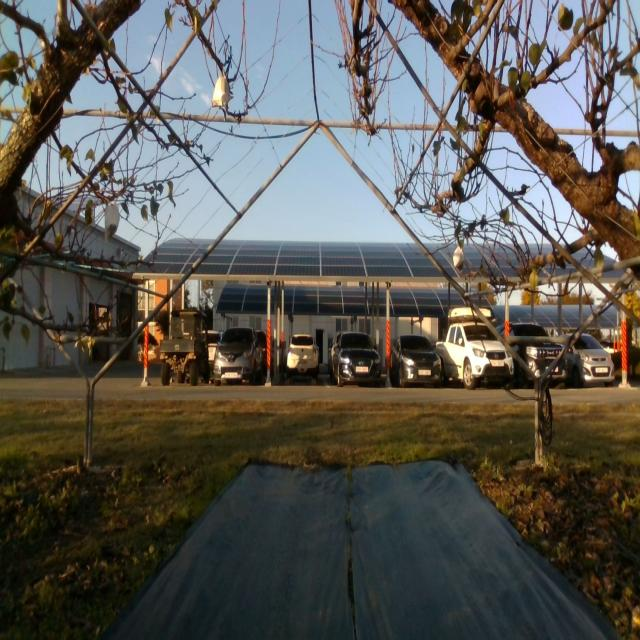pearbags: (104, 204, 120, 241), (211, 76, 230, 106), (453, 247, 463, 270)
